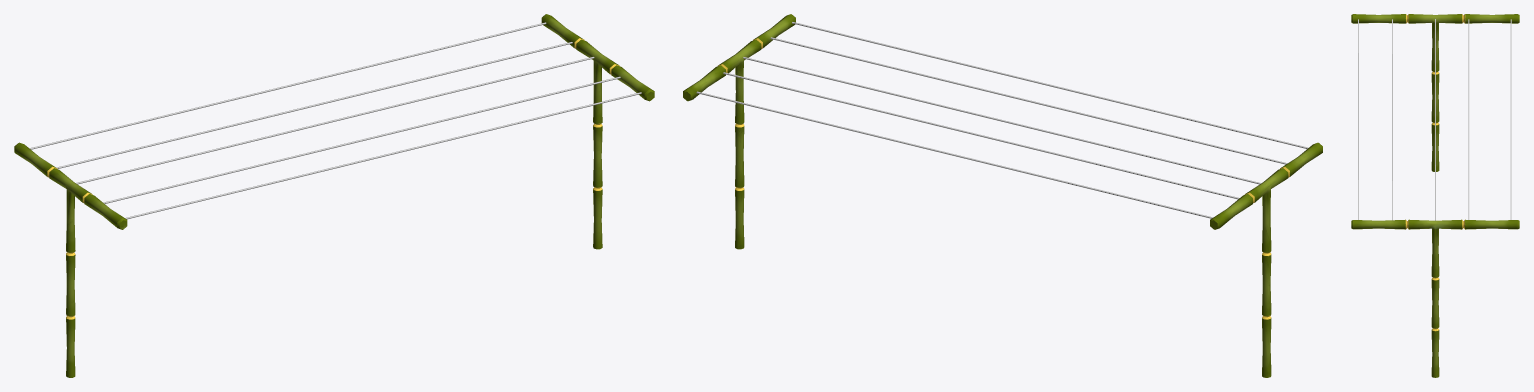
The model's file is clothesline.fbx.
3 views of the same model, side by side, from view 1: azimuth 30°, elevation 25°; view 2: azimuth 150°, elevation 25°; view 3: azimuth 270°, elevation 25° (orthographic). The views are drawn at different scales.
Parts seen in each view (by area): view 1: clothesline; view 2: clothesline; view 3: clothesline.
Boxes of the visible parts, x1,y1,x2,y2 form: clothesline: (14, 14, 654, 377); clothesline: (683, 14, 1322, 377); clothesline: (1351, 14, 1519, 377).
Size of the model in its own units: 603 by 210 by 205.
Materials: 1 (1 with a texture image).
